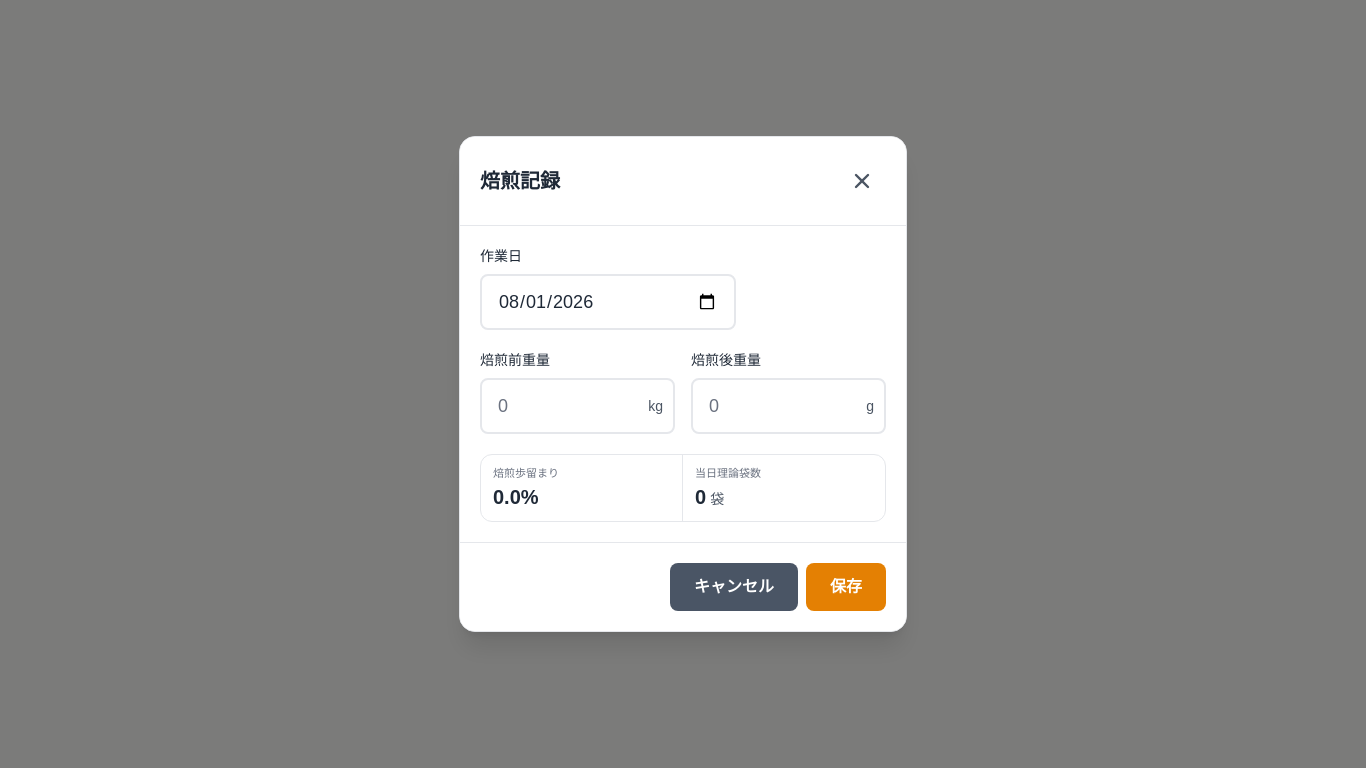
Test: RoastEntryModal › 焙煎後重量が未入力だと保存できずエラーを表示する
This screenshot has width=1366, height=768.
Step 1. Type "10" into the number field labelled "焙煎前重量" → [578, 406], box [480,378,675,434]
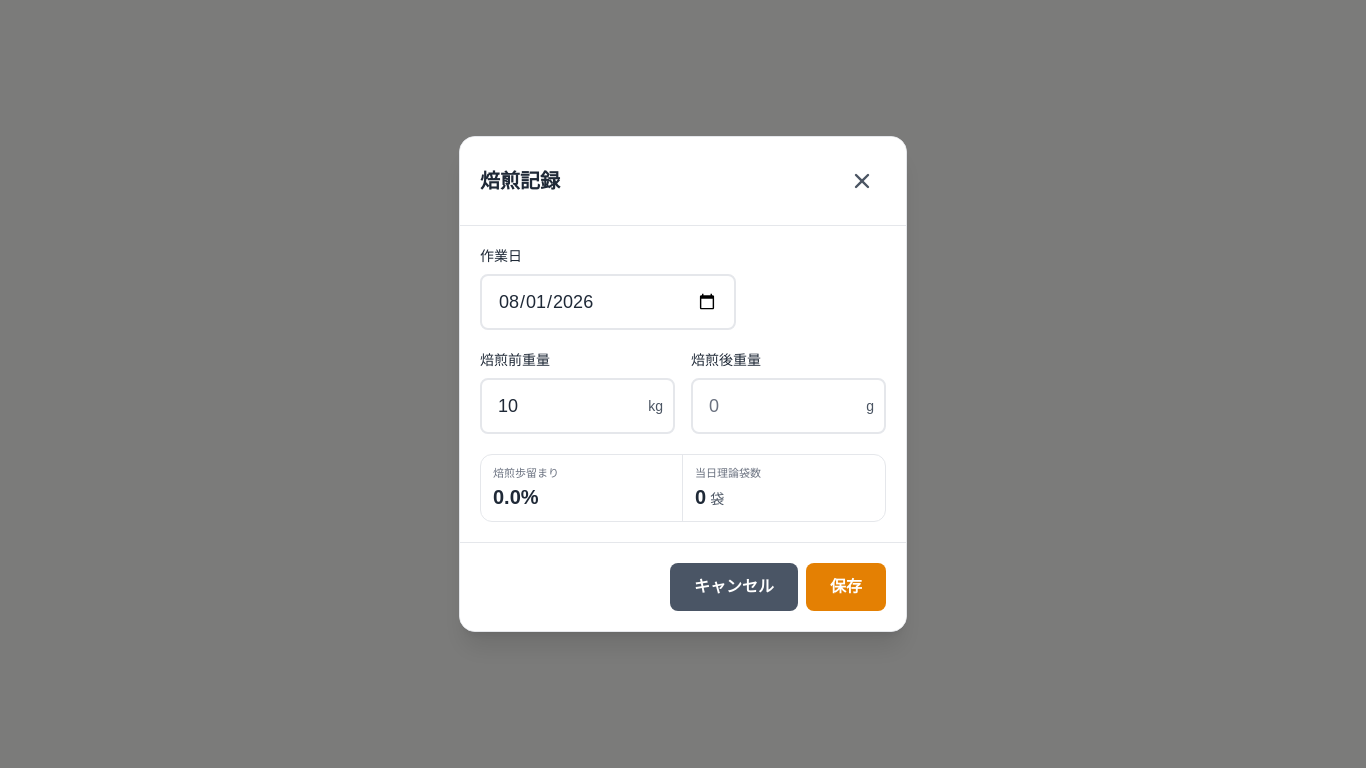
Step 2. Click the button "保存" → [846, 587], box [806,563,886,611]
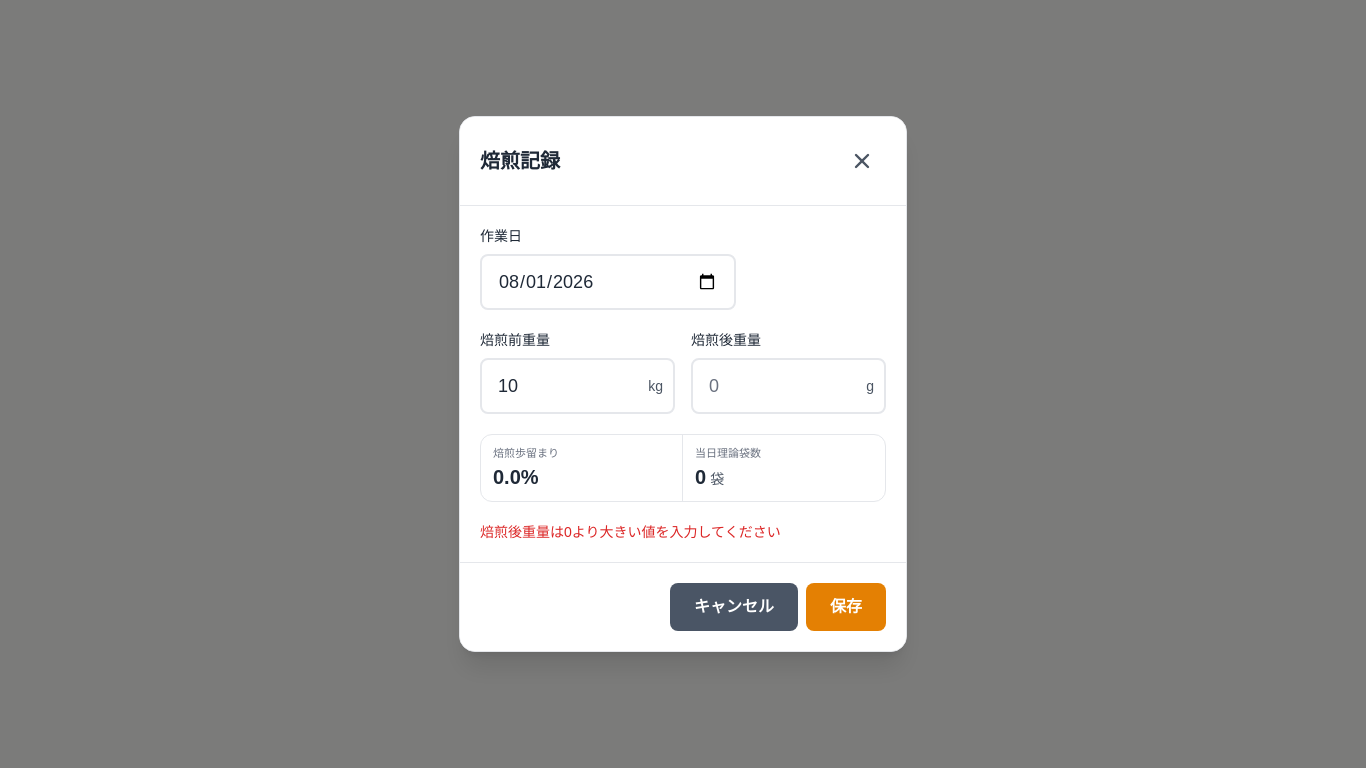
Now the message "焙煎後重量は0より大きい値を入力してください" is shown, box [480,524,781,540]
